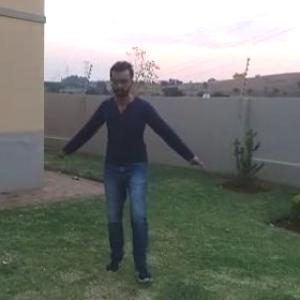land: (60, 50, 226, 285)
